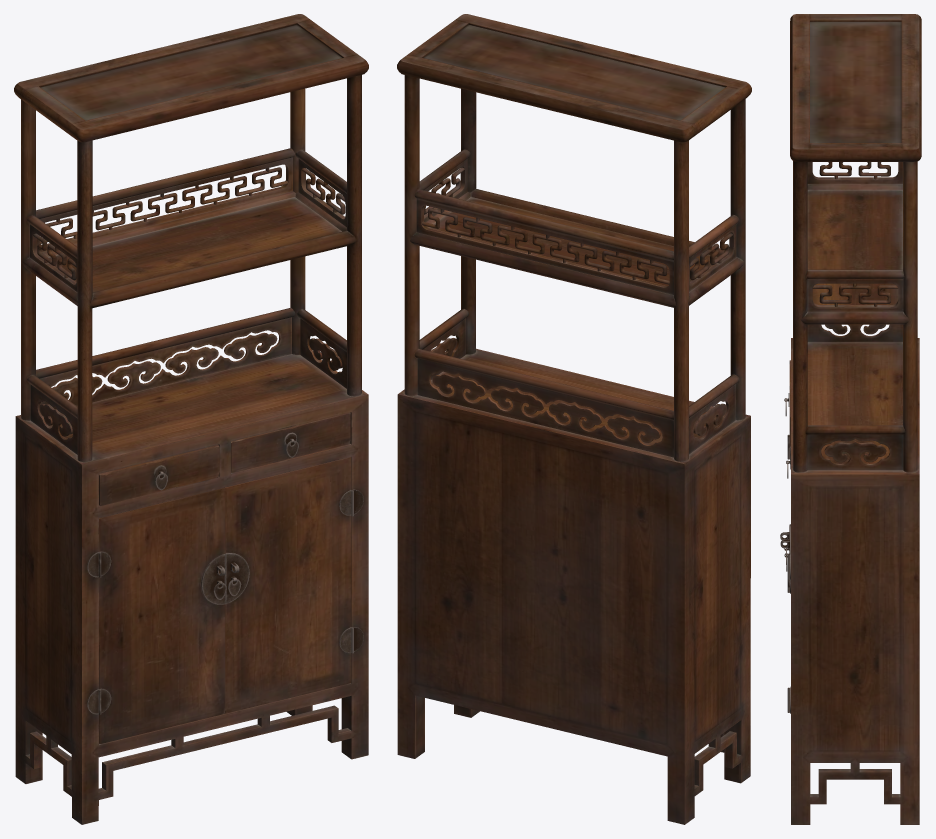
3 renders of one model, left to right at view 1: azimuth 30°, elevation 25°; view 2: azimuth 150°, elevation 25°; view 3: azimuth 270°, elevation 25°, orthographic. The views are drawn at different scales.
Parts seen in each view (by area): view 1: chinese_cabinet; view 2: chinese_cabinet; view 3: chinese_cabinet.
Part boxes in pixels (<box>): chinese_cabinet: <box>14,14,368,824</box>; chinese_cabinet: <box>397,14,751,824</box>; chinese_cabinet: <box>780,14,921,824</box>.
Size of the model in its own units: 1.26 by 2.87 by 0.5452.
Materials: 1 (1 with a texture image).
